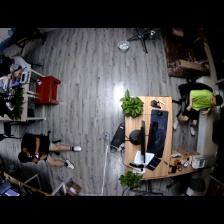normal: (19, 134, 83, 168), (178, 90, 224, 134), (3, 54, 37, 81)
